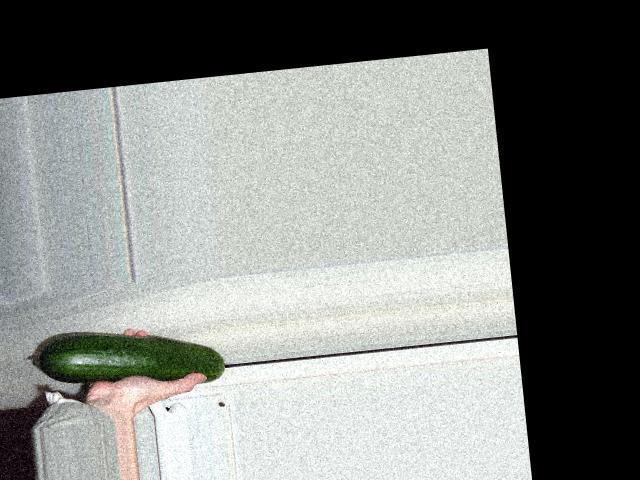cucumber: (29, 317, 226, 399)
